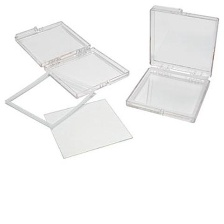plastic_box: (118, 0, 223, 128), (10, 15, 135, 103)
